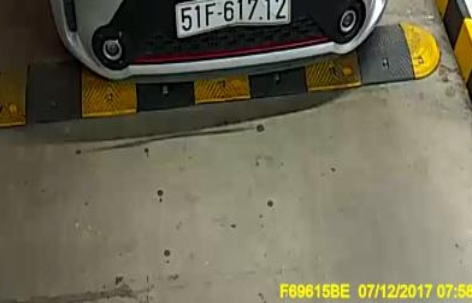plate: (173, 3, 295, 39)
